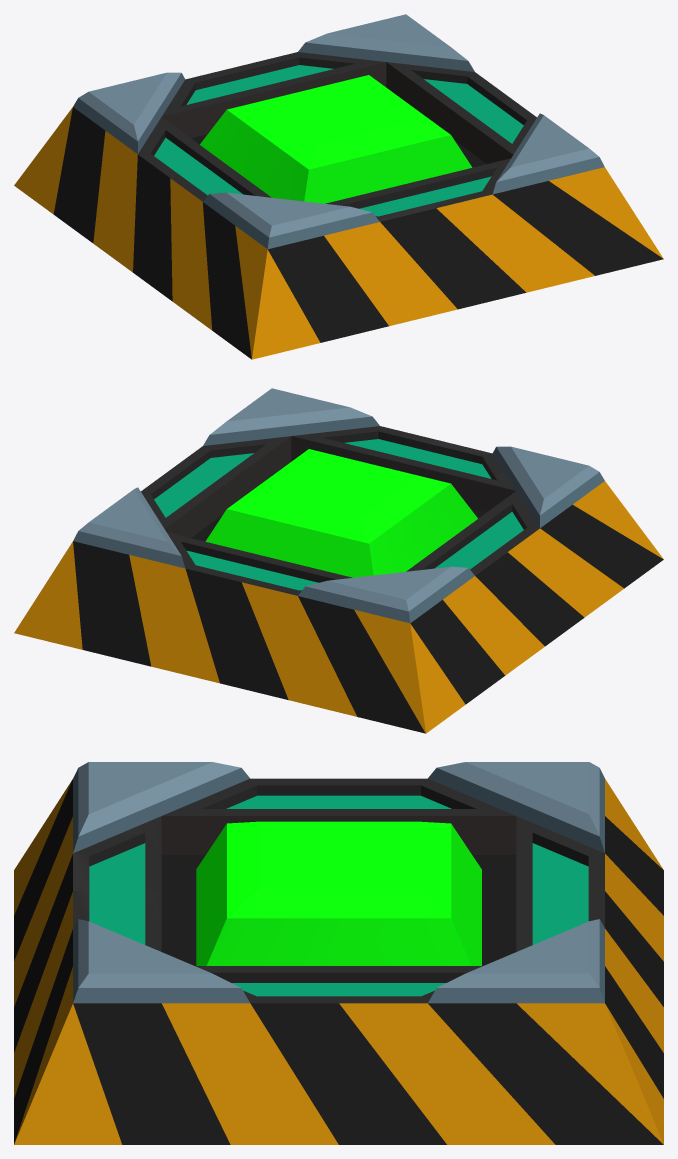
File: Green_SciFi_Button.glb
The picture shows the model from 3 angles, top to bottom: view 1: azimuth 30°, elevation 25°; view 2: azimuth 150°, elevation 25°; view 3: azimuth 270°, elevation 25°; orthographic projection. The views are drawn at different scales.
Visible parts, largest first — view 1: ButtonGreen_Base, ButtonGreen; view 2: ButtonGreen_Base, ButtonGreen; view 3: ButtonGreen_Base, ButtonGreen.
Boxes of the visible parts, bbox=[...] form: ButtonGreen_Base: bbox=[14, 14, 663, 359]; ButtonGreen: bbox=[200, 75, 472, 203]; ButtonGreen_Base: bbox=[14, 388, 663, 733]; ButtonGreen: bbox=[205, 449, 477, 577]; ButtonGreen_Base: bbox=[14, 762, 663, 1144]; ButtonGreen: bbox=[196, 821, 481, 965].
Size of what is drawn, in the model's own units: 0.6235 by 0.1618 by 0.6235.
1 material, 1 textured.
